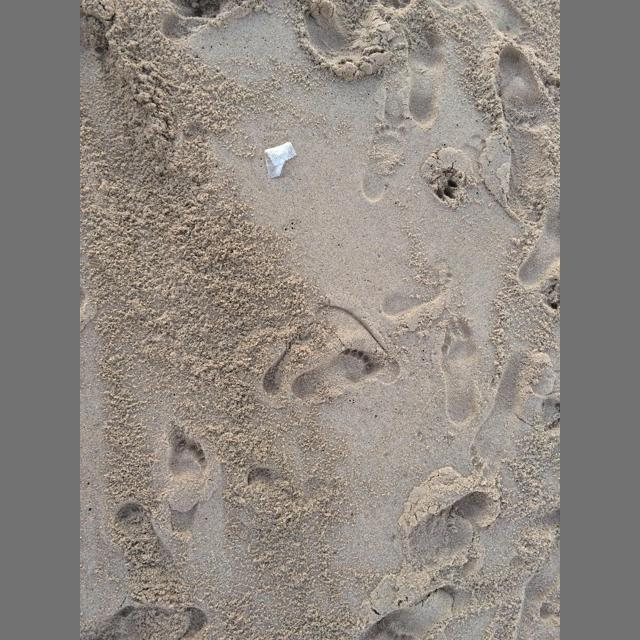litter: (264, 142, 297, 179)
